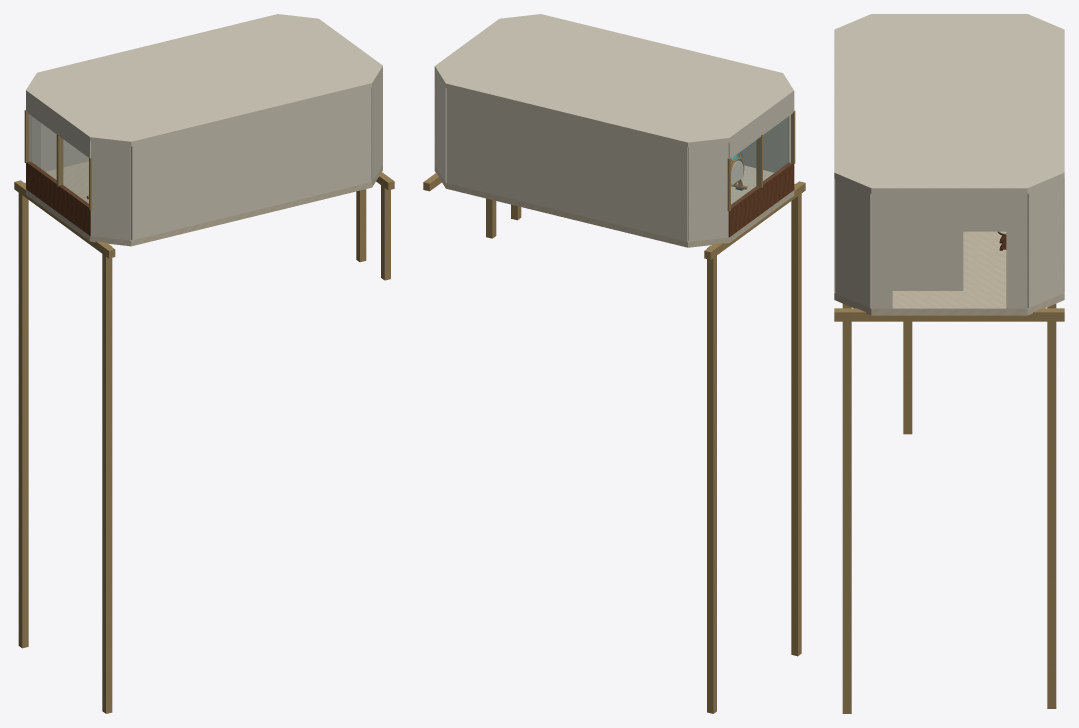
The model's file is D04_PORT_AFT_HOME_960_r001.glb.
3 views of the same model, side by side, from view 1: azimuth 30°, elevation 25°; view 2: azimuth 150°, elevation 25°; view 3: azimuth 270°, elevation 25° (orthographic). The views are drawn at different scales.
Visible parts, largest first — view 1: PA960_D04SH955_Roof, PA960_D04SH955_Shell_7, PA960_D04SH955_Pier_9, PA960_D04SH955_Pier_10, PA960_D04SH955_Shell_0, PA960_D04SH955_Floor, PA960_D04SH955_GardenGlass, PA960_D04SH955_GardenDado, PA960_D04SH955_Shell_6, PA960_D04SH955_GardenHead, PA960_D04SH955_Shell_3, PA960_D04SH955_Pier_11 (+2 smaller); view 2: PA960_D04SH955_Roof, PA960_D04SH955_Shell_3, PA960_D04SH955_Pier_9, PA960_D04SH955_Pier_10, PA960_D04SH955_Shell_2, PA960_D04SH955_Floor, PA960_D04SH955_GardenGlass, PA960_D04SH955_GardenDado, PA960_D04SH955_GardenHead, PA960_D04SH955_Shell_4, PA960_D04SH955_Shell_7, PA960_D04SH955_Long_-58.650000000000006; view 3: PA960_D04SH955_Roof, PA960_D04SH955_Floor, PA960_D04SH955_EntryHeader, PA960_D04SH955_Shell_4, PA960_D04SH955_Shell_6, PA960_D04SH955_BathDogleg, PA960_D04SH955_Pier_10, PA960_D04SH955_Pier_9, PA960_D04SH955_EntryWall_0, PA960_D04SH955_EntryWall_1, PA960_D04SH955_Long_-46.349999999999994, PA960_D04SH955_Pier_11 (+2 smaller).
Boxes of the visible parts, x1=… form: PA960_D04SH955_Roof: x1=26, y1=14, x2=382, y2=146; PA960_D04SH955_Shell_7: x1=131, y1=88, x2=371, y2=240; PA960_D04SH955_Pier_9: x1=102, y1=244, x2=112, y2=713; PA960_D04SH955_Pier_10: x1=18, y1=182, x2=28, y2=648; PA960_D04SH955_Shell_0: x1=91, y1=142, x2=130, y2=240; PA960_D04SH955_Floor: x1=26, y1=161, x2=382, y2=246; PA960_D04SH955_GardenGlass: x1=28, y1=116, x2=88, y2=205; PA960_D04SH955_GardenDado: x1=26, y1=161, x2=90, y2=235; PA960_D04SH955_Shell_6: x1=371, y1=71, x2=382, y2=181; PA960_D04SH955_GardenHead: x1=26, y1=95, x2=90, y2=157; PA960_D04SH955_Shell_3: x1=41, y1=123, x2=88, y2=171; PA960_D04SH955_Pier_11: x1=381, y1=176, x2=390, y2=280; PA960_D04SH955_Roof: x1=434, y1=14, x2=794, y2=147; PA960_D04SH955_Shell_3: x1=446, y1=88, x2=688, y2=241; PA960_D04SH955_Pier_9: x1=791, y1=183, x2=801, y2=656; PA960_D04SH955_Pier_10: x1=707, y1=245, x2=716, y2=713; PA960_D04SH955_Shell_2: x1=688, y1=143, x2=728, y2=241; PA960_D04SH955_Floor: x1=434, y1=165, x2=794, y2=247; PA960_D04SH955_GardenGlass: x1=731, y1=117, x2=790, y2=206; PA960_D04SH955_GardenDado: x1=728, y1=162, x2=794, y2=237; PA960_D04SH955_GardenHead: x1=728, y1=95, x2=794, y2=158; PA960_D04SH955_Shell_4: x1=435, y1=71, x2=446, y2=182; PA960_D04SH955_Shell_7: x1=741, y1=124, x2=778, y2=172; PA960_D04SH955_Long_-58.650000000000006: x1=704, y1=181, x2=805, y2=259; PA960_D04SH955_Roof: x1=834, y1=14, x2=1064, y2=193; PA960_D04SH955_Floor: x1=834, y1=231, x2=1064, y2=315; PA960_D04SH955_EntryHeader: x1=892, y1=194, x2=1006, y2=231; PA960_D04SH955_Shell_4: x1=1027, y1=179, x2=1063, y2=308; PA960_D04SH955_Shell_6: x1=835, y1=179, x2=871, y2=308; PA960_D04SH955_BathDogleg: x1=892, y1=231, x2=960, y2=290; PA960_D04SH955_Pier_10: x1=1047, y1=304, x2=1056, y2=708; PA960_D04SH955_Pier_9: x1=842, y1=304, x2=851, y2=713; PA960_D04SH955_EntryWall_0: x1=871, y1=194, x2=892, y2=308; PA960_D04SH955_EntryWall_1: x1=1006, y1=194, x2=1027, y2=308; PA960_D04SH955_Long_-46.349999999999994: x1=834, y1=308, x2=1064, y2=321; PA960_D04SH955_Pier_11: x1=842, y1=308, x2=851, y2=434.
Size of the model in its own units: 12.92 by 23.95 by 7.2.
Materials: 36 (21 with a texture image).
